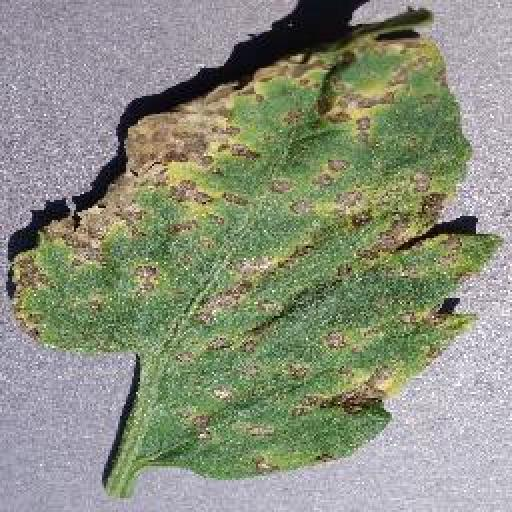disease_tomato: (10, 8, 504, 477)
